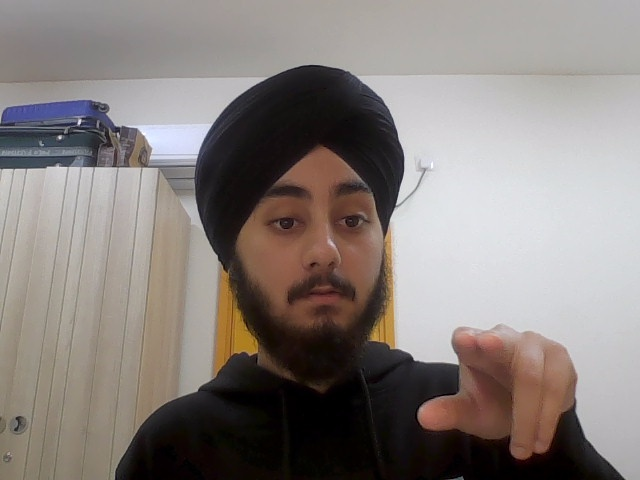No: (416, 322, 583, 462)
